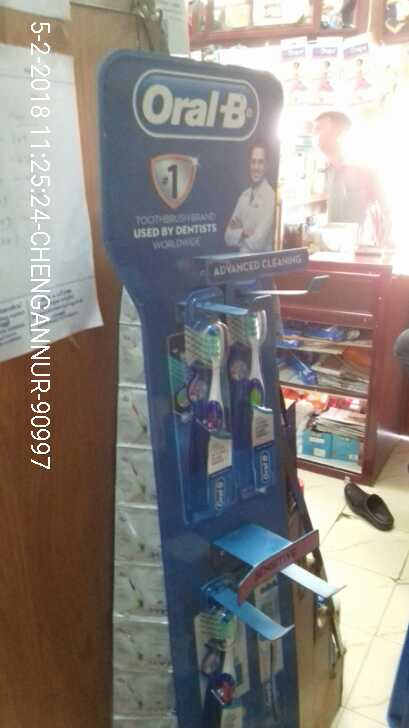oralb: (182, 283, 241, 512), (234, 282, 284, 496)
